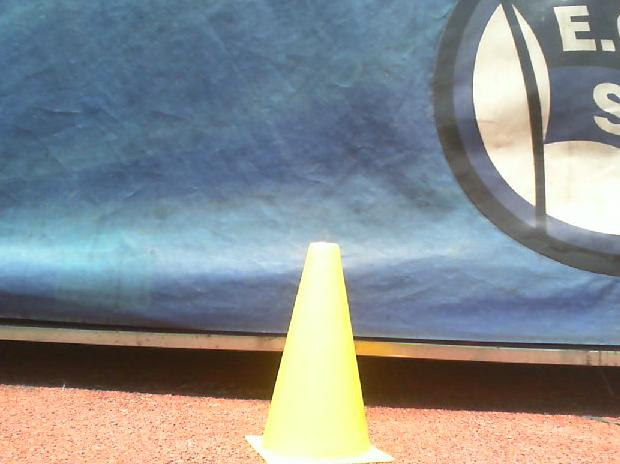0 cone: (245, 242, 394, 464)
